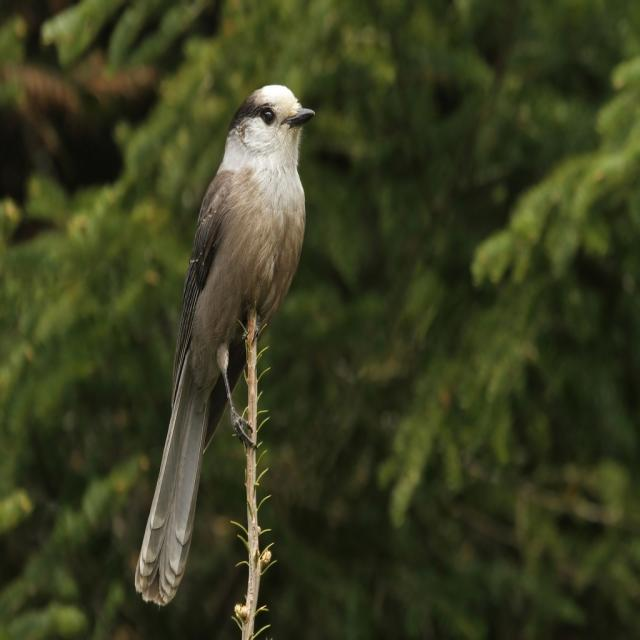bird: (124, 80, 320, 612)
